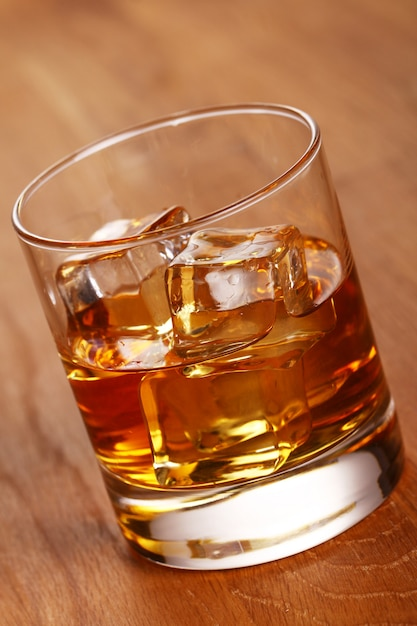alcohol: (12, 102, 409, 572)
